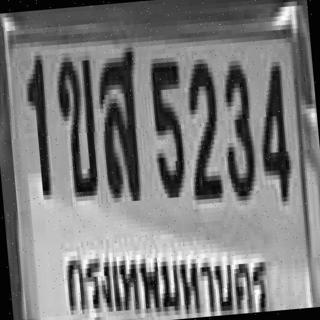A02: (53, 51, 100, 194)
A40: (94, 43, 144, 199)
N01: (23, 51, 52, 196)
N02: (182, 56, 222, 193)
N03: (217, 56, 256, 197)
N04: (252, 57, 292, 198)
N05: (147, 57, 187, 194)
P04: (56, 222, 275, 320)
